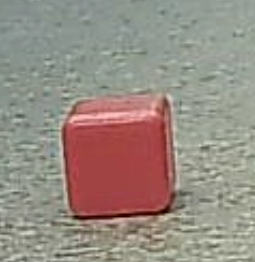orange_cube: (43, 88, 193, 224)
